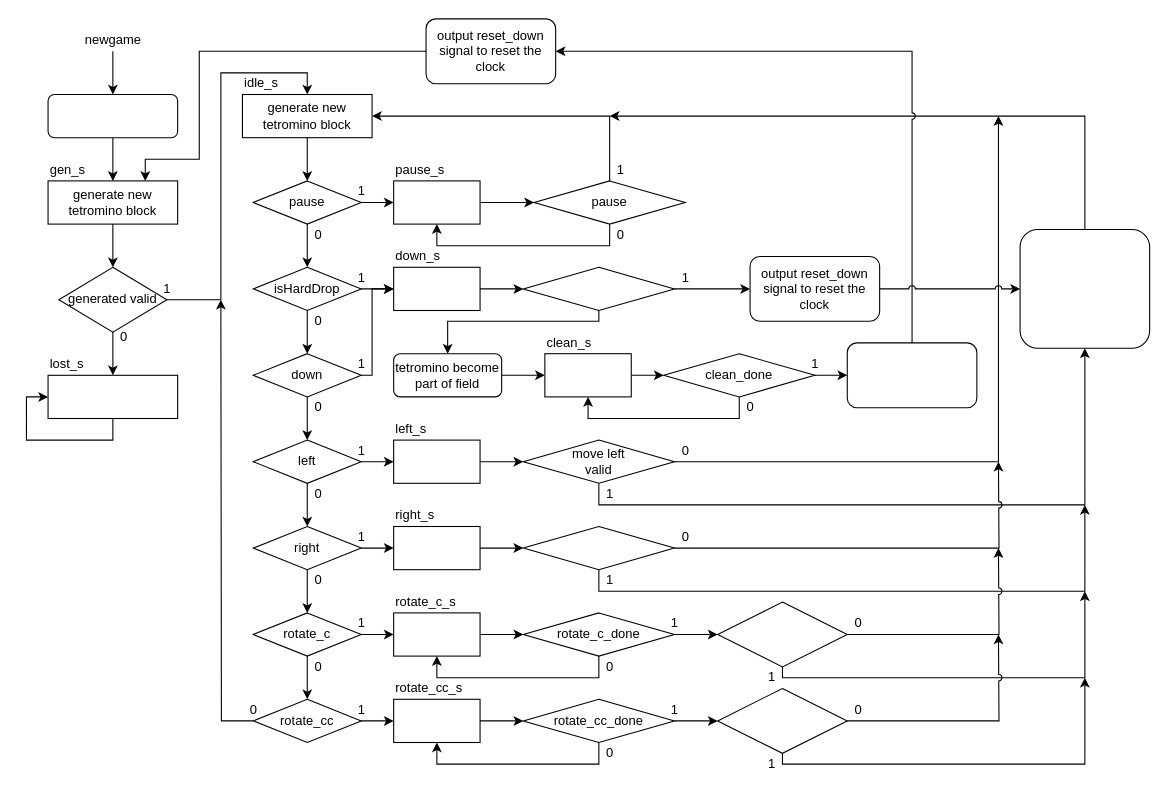
Image size: 1169x794. Some labels were removed from this diagram. The shapes that lost their labels are listed below. From the top down, each one's centre as x and y in pixels, then its label:
At (112,115): "set level and score back to 0, flied to empty".
At (598,288): "move down valid".
At (1084,288): "update corresponding tetromino coordinate / rotation".
At (911,375): "update field, score, level based on deleted lines".
At (112,396): "output isLost".
At (598,547): "move right valid".
At (782,634): "rotate_c_ failed".
At (782,720): "rotate_cc_ failed".
